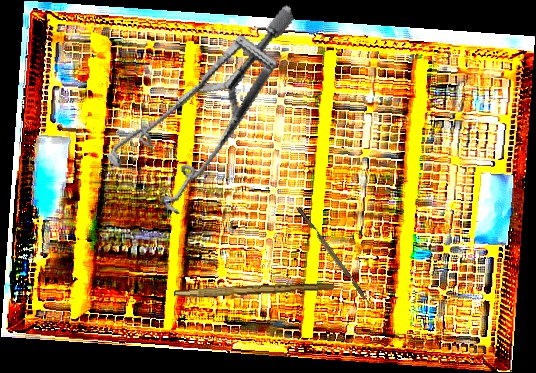Chopper: (296, 203, 380, 312)
Scalpel Handle: (173, 279, 335, 302)
Speculum: (80, 2, 337, 229)
